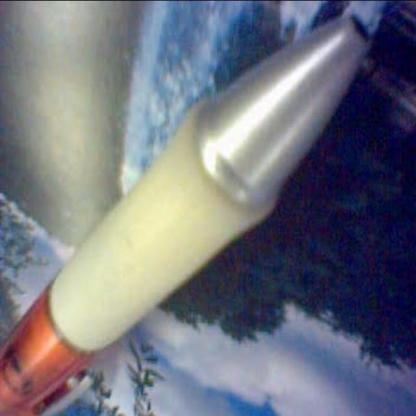MIL_TBM: (0, 17, 370, 416)
